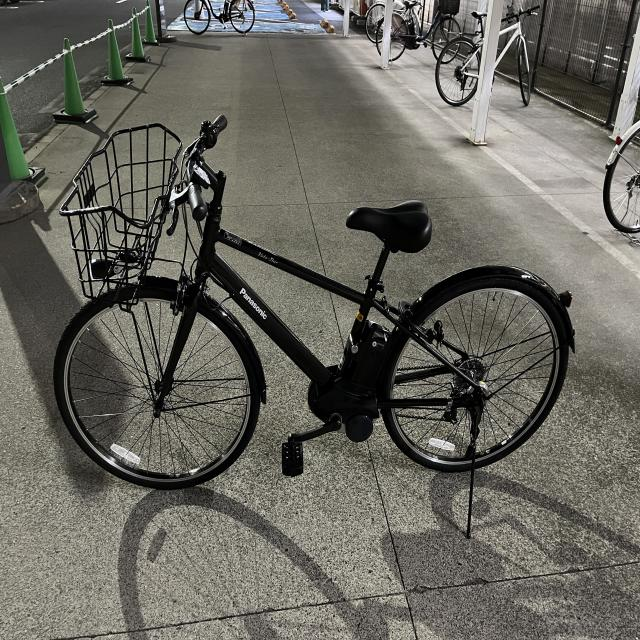basket: (54, 122, 182, 310)
battery: (353, 321, 389, 396)
